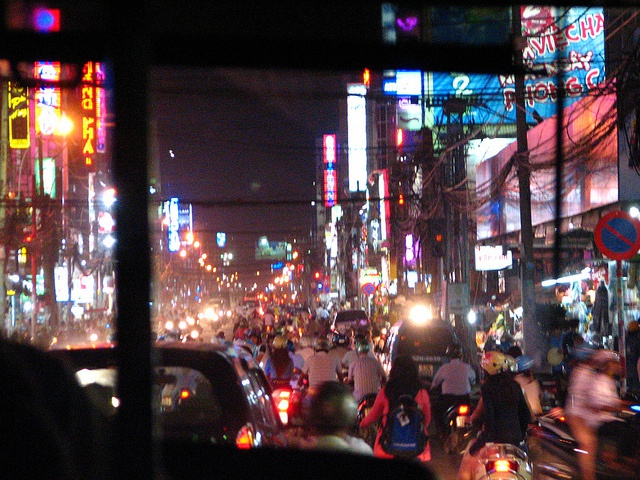non-vehicle: (526, 399, 639, 479), (455, 443, 537, 479), (442, 398, 470, 454), (271, 383, 295, 433), (356, 392, 378, 445), (184, 324, 204, 342), (210, 313, 221, 331)
